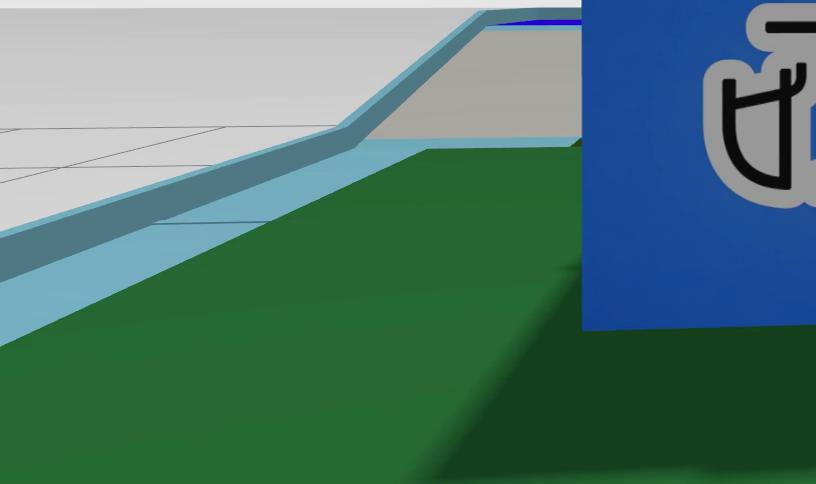KFS_REAL: (581, 0, 816, 329), (704, 0, 816, 206)
